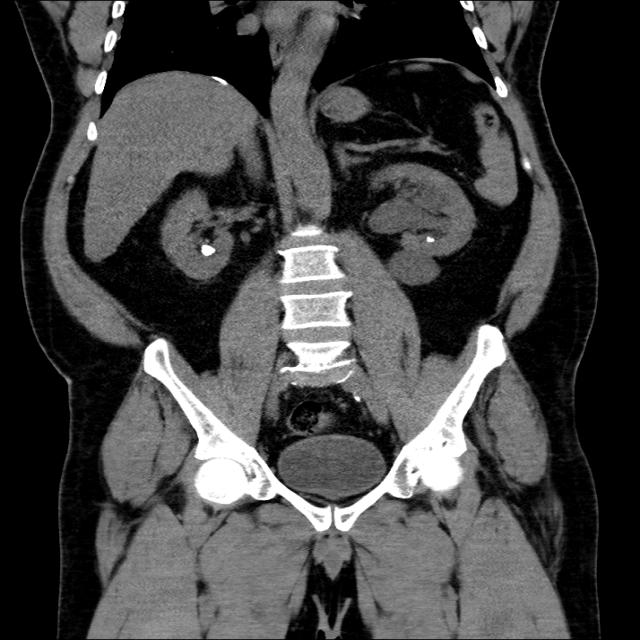kidneystone: (200, 244, 216, 256), (427, 237, 434, 242)
